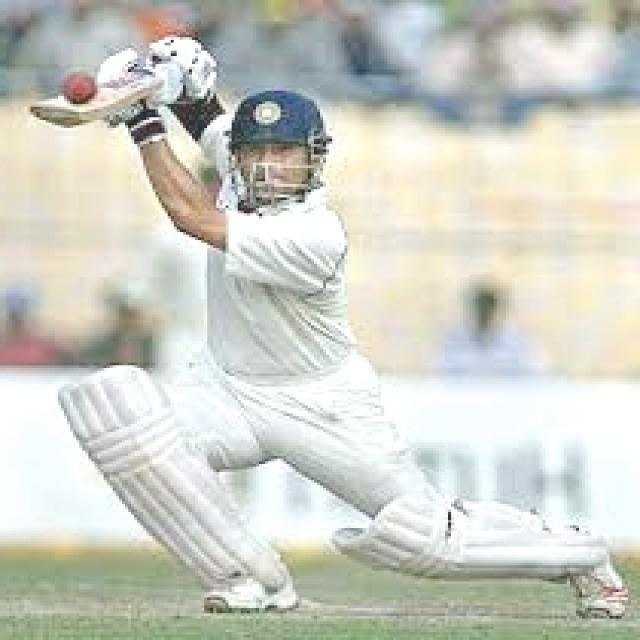bat: (16, 70, 161, 142)
toe: (25, 106, 92, 131)
